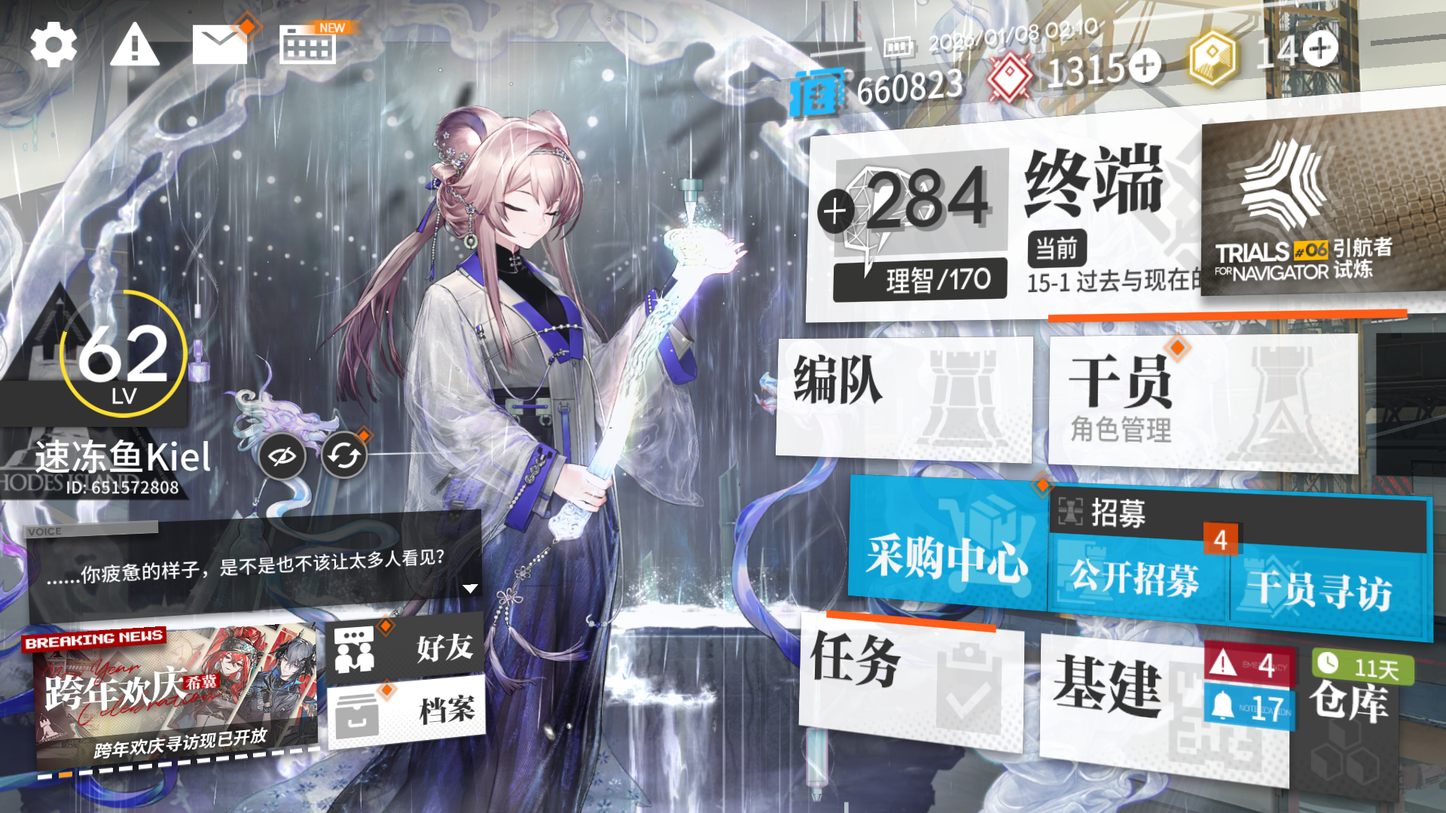home_button: (1004, 134, 1182, 242)
infrastructure_button: (1036, 620, 1274, 762)
